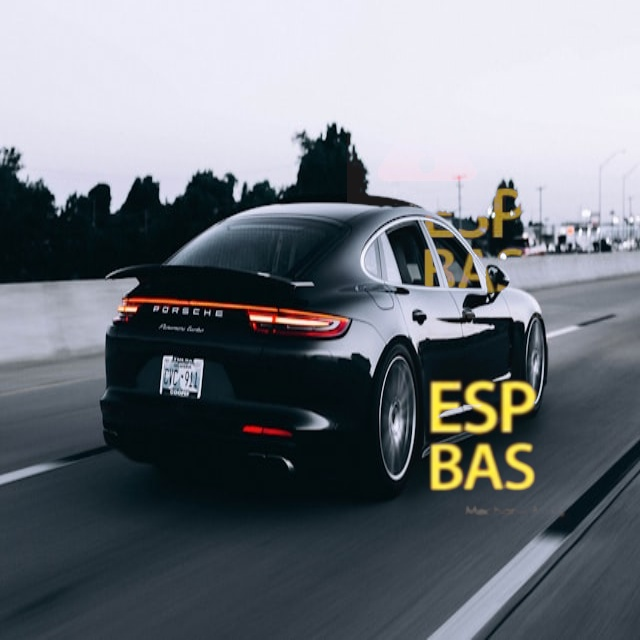symbol: (396, 350, 571, 525), (391, 158, 560, 327), (347, 59, 506, 218)
